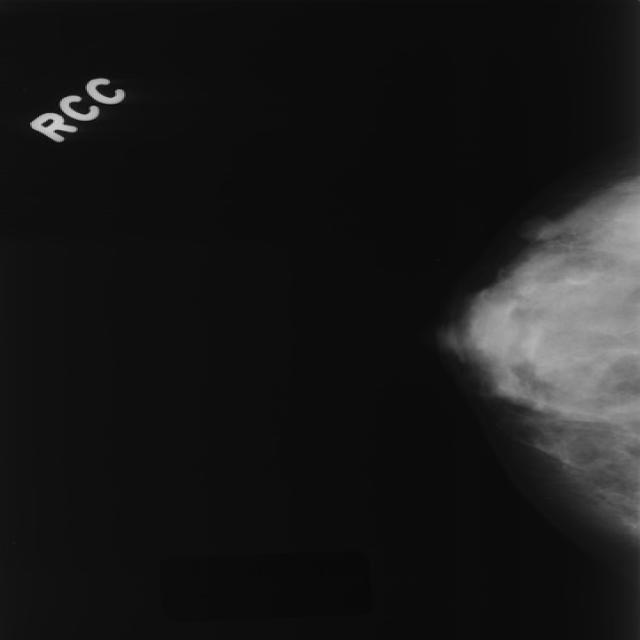tumour: (514, 213, 559, 241)
